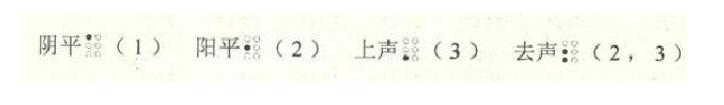Braille: (243, 36, 262, 61), (561, 39, 579, 64), (402, 37, 420, 62), (86, 33, 101, 58)
